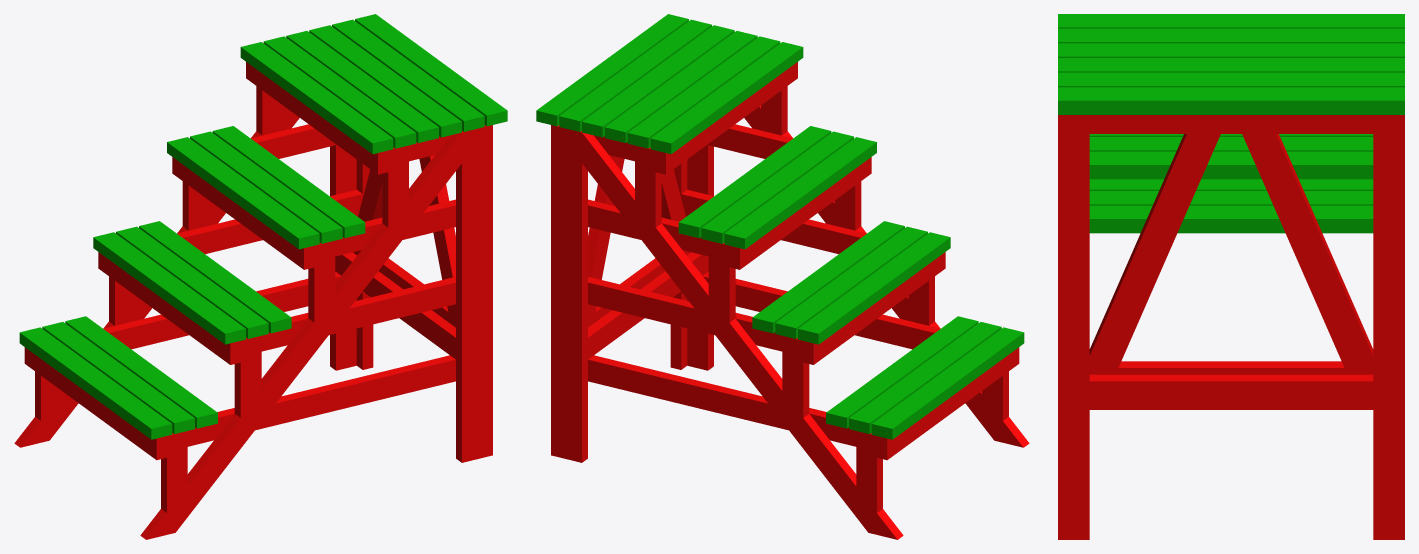
File: result.glb
3 renders of one model, left to right at view 1: azimuth 30°, elevation 25°; view 2: azimuth 150°, elevation 25°; view 3: azimuth 270°, elevation 25°, orthographic. The views are drawn at different scales.
Parts seen in each view (by area): view 1: 0a27cd8f-66b5-4953-8c1f-94a7354380b9__undefined, ca303b87-97fe-412d-b6f2-fb5eb836a868__undefined, b3058b63-4ad5-4237-a042-93c2d517f6f6__undefined, 956e97fd-2f68-4fc2-bf60-0281ccfc6ecf__undefined, b38be80e-5e62-4594-b5d7-8452f41ad569__undefined, 8c9e1257-c462-4c0f-affc-63ae8fe06a46__undefined, 9d513531-8569-45e2-a1c4-571d42747d42__undefined, 4d92bb8e-2919-4947-8d68-fa0eedd32f47__undefined, 8895d646-6ab4-4692-941c-d007d83917ff__undefined, 9d084428-2b1e-468d-812e-bda90ef19224__undefined, 63495e36-d0ec-4221-9408-f9696ccde981__undefined, 4b077526-0e55-4821-89e4-e98db4665a11__undefined (+31 smaller); view 2: f6d82b6b-809d-47d6-8ce2-d794fc3b1061__undefined, b70afc7a-c589-4e25-89f6-74ec82c7d4f0__undefined, 65641b8f-1b4b-4c5b-93ad-30b70f58ffc4__undefined, 956e97fd-2f68-4fc2-bf60-0281ccfc6ecf__undefined, b38be80e-5e62-4594-b5d7-8452f41ad569__undefined, 8c9e1257-c462-4c0f-affc-63ae8fe06a46__undefined, 9d513531-8569-45e2-a1c4-571d42747d42__undefined, d3d4dc8b-ed58-48b0-bc20-9b5e6cd29fa7__undefined, 0aa758dd-00f0-46b0-94a2-a7857b92a54f__undefined, 9d084428-2b1e-468d-812e-bda90ef19224__undefined, 63495e36-d0ec-4221-9408-f9696ccde981__undefined, 4b077526-0e55-4821-89e4-e98db4665a11__undefined (+32 smaller); view 3: 9ea1b1a5-0174-40c3-ad45-3b88817f10e3__undefined (×2), 8895d646-6ab4-4692-941c-d007d83917ff__undefined, 0aa758dd-00f0-46b0-94a2-a7857b92a54f__undefined, cd18c29d-8181-41cb-a5e9-23256817fa1f__undefined, 4b077526-0e55-4821-89e4-e98db4665a11__undefined, 2aade345-246c-4217-9283-65386b9701d2__undefined, 8b6a3cd3-fb07-4e16-95ae-2a8e34d0cd26__undefined, 96be99c6-e1d0-4c04-9984-e90f5edcf1cb__undefined, 63495e36-d0ec-4221-9408-f9696ccde981__undefined, 8f3b5b15-95b5-4036-a67d-4b4b6f0a5cb7__undefined, 16f85b07-8c9d-447d-9212-3e79450133e6__undefined, 956e97fd-2f68-4fc2-bf60-0281ccfc6ecf__undefined (+7 smaller).
Boxes of the visible parts, x1,y1,x2,y2 form: 0a27cd8f-66b5-4953-8c1f-94a7354380b9__undefined: (140,132,461,539); ca303b87-97fe-412d-b6f2-fb5eb836a868__undefined: (456,127,482,462); b3058b63-4ad5-4237-a042-93c2d517f6f6__undefined: (187,355,455,446); 956e97fd-2f68-4fc2-bf60-0281ccfc6ecf__undefined: (240,42,393,154); b38be80e-5e62-4594-b5d7-8452f41ad569__undefined: (19,327,172,439); 8c9e1257-c462-4c0f-affc-63ae8fe06a46__undefined: (93,232,245,344); 9d513531-8569-45e2-a1c4-571d42747d42__undefined: (167,137,319,249); 4d92bb8e-2919-4947-8d68-fa0eedd32f47__undefined: (261,276,455,351); 8895d646-6ab4-4692-941c-d007d83917ff__undefined: (482,147,492,457); 9d084428-2b1e-468d-812e-bda90ef19224__undefined: (212,126,365,238); 63495e36-d0ec-4221-9408-f9696ccde981__undefined: (139,221,291,333); 4b077526-0e55-4821-89e4-e98db4665a11__undefined: (355,14,507,126); f6d82b6b-809d-47d6-8ce2-d794fc3b1061__undefined: (582,132,903,539); b70afc7a-c589-4e25-89f6-74ec82c7d4f0__undefined: (561,127,587,462); 65641b8f-1b4b-4c5b-93ad-30b70f58ffc4__undefined: (588,355,856,446); 956e97fd-2f68-4fc2-bf60-0281ccfc6ecf__undefined: (650,42,803,154); b38be80e-5e62-4594-b5d7-8452f41ad569__undefined: (871,327,1024,439); 8c9e1257-c462-4c0f-affc-63ae8fe06a46__undefined: (798,232,950,344); 9d513531-8569-45e2-a1c4-571d42747d42__undefined: (724,137,876,249); d3d4dc8b-ed58-48b0-bc20-9b5e6cd29fa7__undefined: (588,276,782,351); 0aa758dd-00f0-46b0-94a2-a7857b92a54f__undefined: (551,147,561,457); 9d084428-2b1e-468d-812e-bda90ef19224__undefined: (678,126,831,238); 63495e36-d0ec-4221-9408-f9696ccde981__undefined: (752,221,904,333); 4b077526-0e55-4821-89e4-e98db4665a11__undefined: (536,14,688,126); 9ea1b1a5-0174-40c3-ad45-3b88817f10e3__undefined (×2): (1089,134,1220,374); 8895d646-6ab4-4692-941c-d007d83917ff__undefined: (1058,134,1089,539); 0aa758dd-00f0-46b0-94a2-a7857b92a54f__undefined: (1373,134,1404,539); cd18c29d-8181-41cb-a5e9-23256817fa1f__undefined: (1089,374,1373,409); 4b077526-0e55-4821-89e4-e98db4665a11__undefined: (1058,87,1404,114); 2aade345-246c-4217-9283-65386b9701d2__undefined: (1242,134,1373,374); 8b6a3cd3-fb07-4e16-95ae-2a8e34d0cd26__undefined: (1058,115,1404,133); 96be99c6-e1d0-4c04-9984-e90f5edcf1cb__undefined: (1089,205,1373,233); 63495e36-d0ec-4221-9408-f9696ccde981__undefined: (1089,151,1373,179); 8f3b5b15-95b5-4036-a67d-4b4b6f0a5cb7__undefined: (1058,28,1404,43); 16f85b07-8c9d-447d-9212-3e79450133e6__undefined: (1058,72,1404,87); 956e97fd-2f68-4fc2-bf60-0281ccfc6ecf__undefined: (1058,14,1404,28).
Size of the model in its own units: 870 by 785 by 550.
